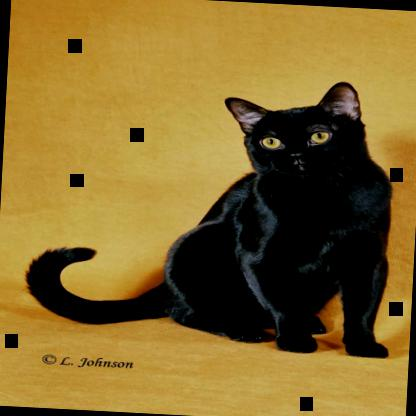cat: (20, 64, 404, 359)
